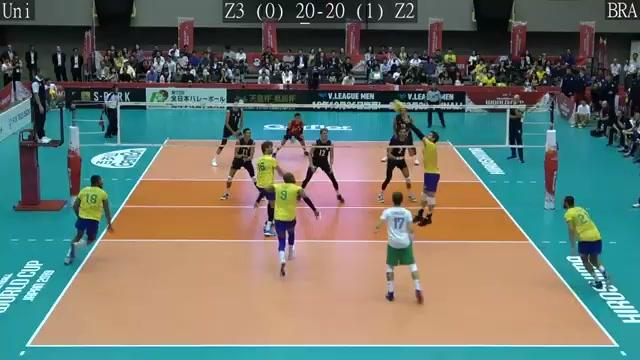ball: (389, 97, 405, 111)
